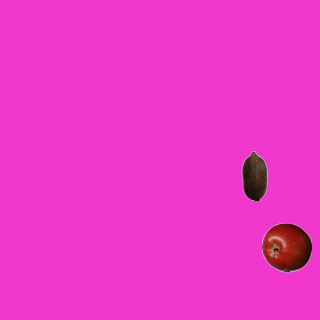Apple Braeburn: (261, 222, 311, 272)
Nut Pecan: (229, 150, 279, 200)
